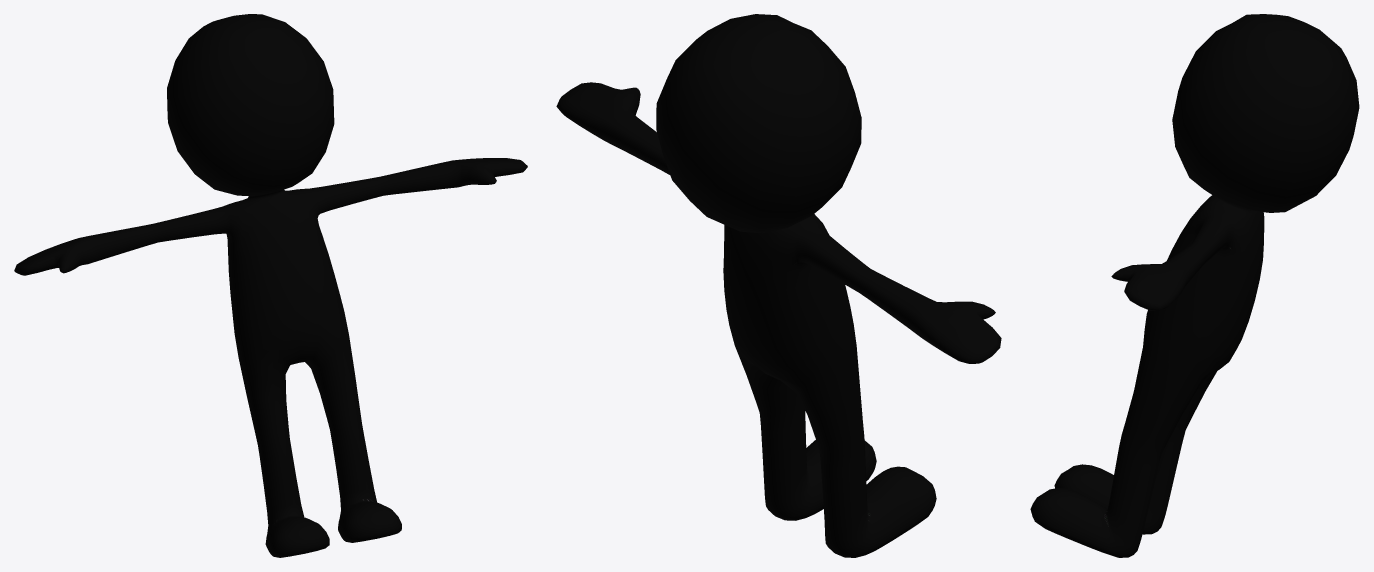
Rendered from stickmanblue.fbx.
The picture shows the model from 3 angles, left to right: view 1: azimuth 30°, elevation 25°; view 2: azimuth 150°, elevation 25°; view 3: azimuth 270°, elevation 25°; orthographic projection. The views are drawn at different scales.
Visible parts, largest first — view 1: node_id4; view 2: node_id4; view 3: node_id4.
Part boxes in pixels (x1,y1,x2,y2): node_id4: (14,14,527,557); node_id4: (556,14,1001,557); node_id4: (1030,14,1359,557).
Bounding box in the file's own units: 0.4801 × 0.5026 × 0.2897.
1 material, 1 textured.
